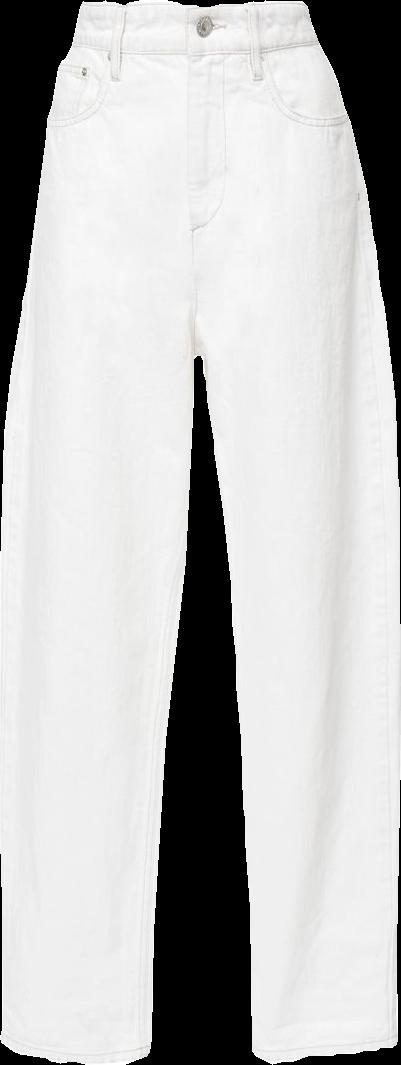Hemline: (0, 1034, 150, 1064), (251, 1036, 399, 1063)
Pantleg: (190, 2, 400, 1061), (0, 0, 196, 1064)
Waistline: (70, 32, 325, 63), (79, 0, 310, 19)
